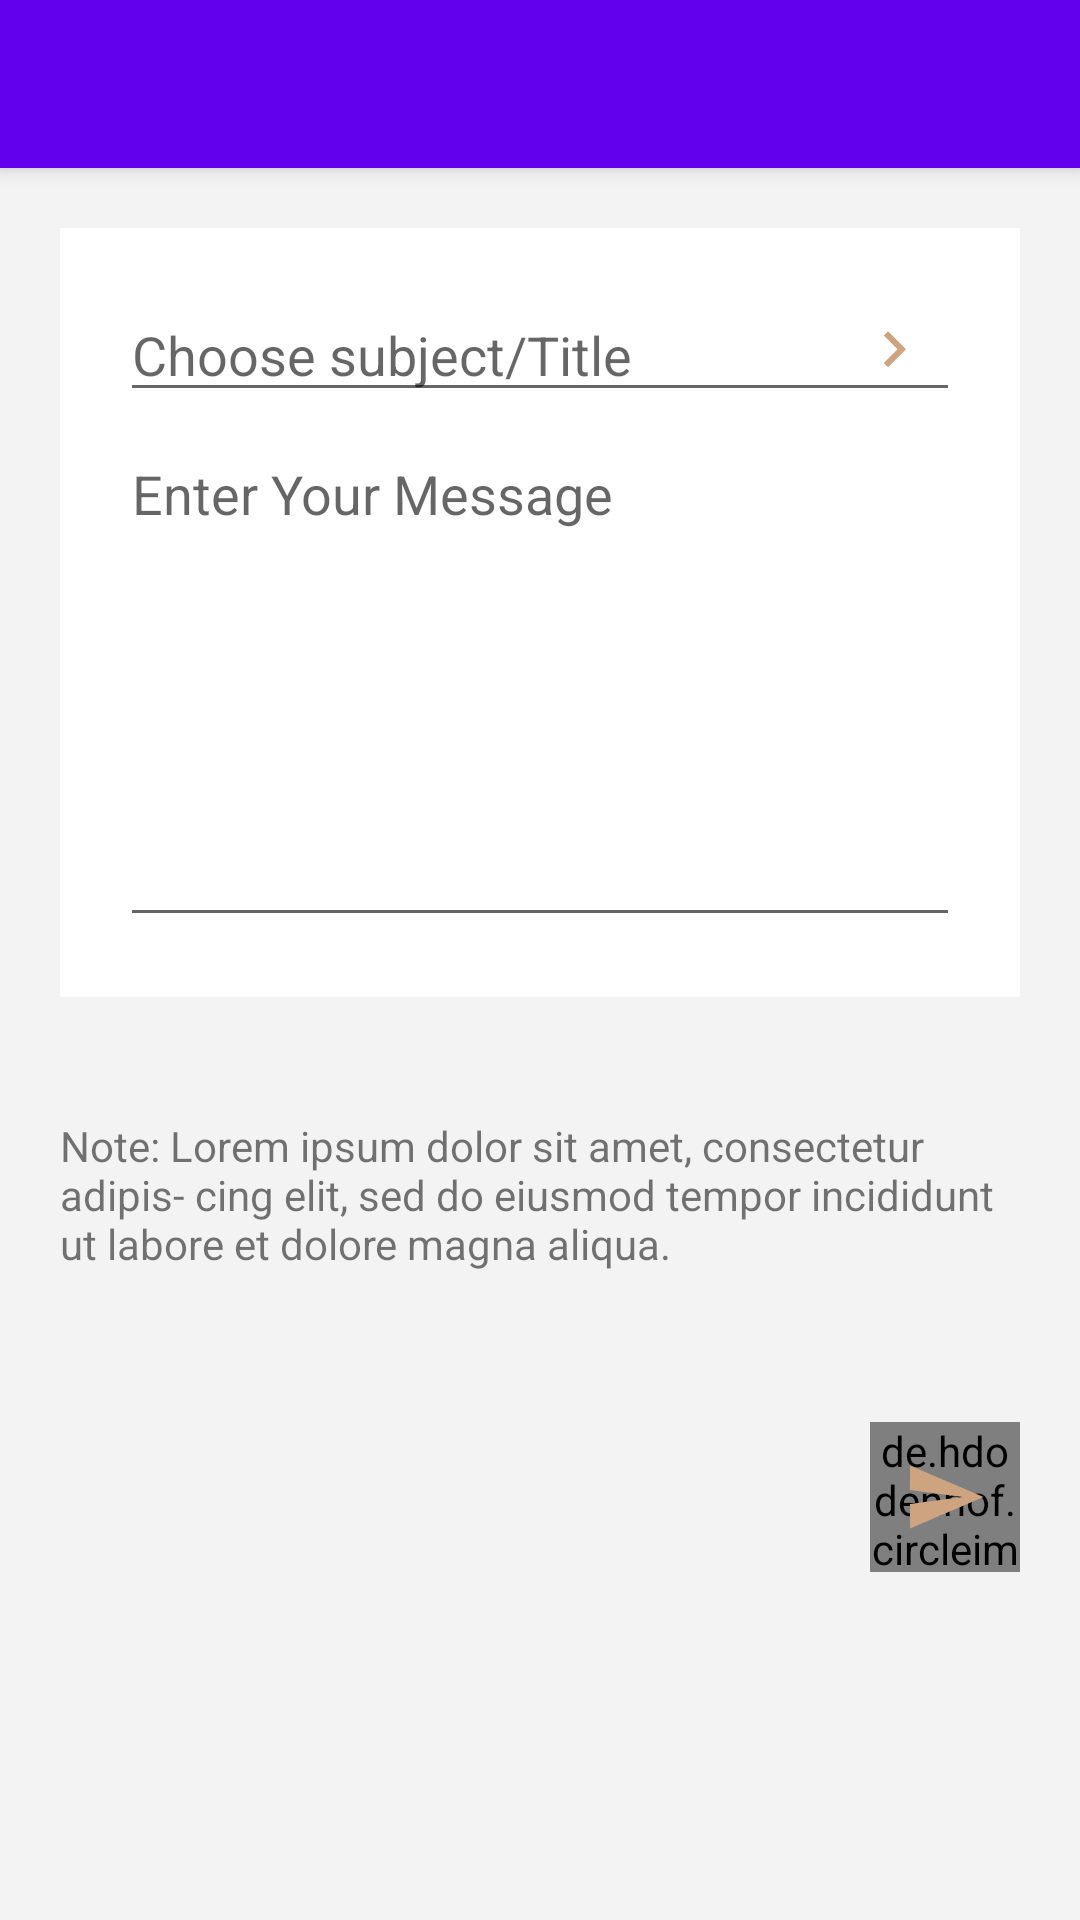

Screen size 1080×1920. Icon name, then its box in pixels as (x1, y1, x2, y2):
keyboard arrow right: (884, 331, 906, 367)
send right: (903, 1455, 987, 1539)
